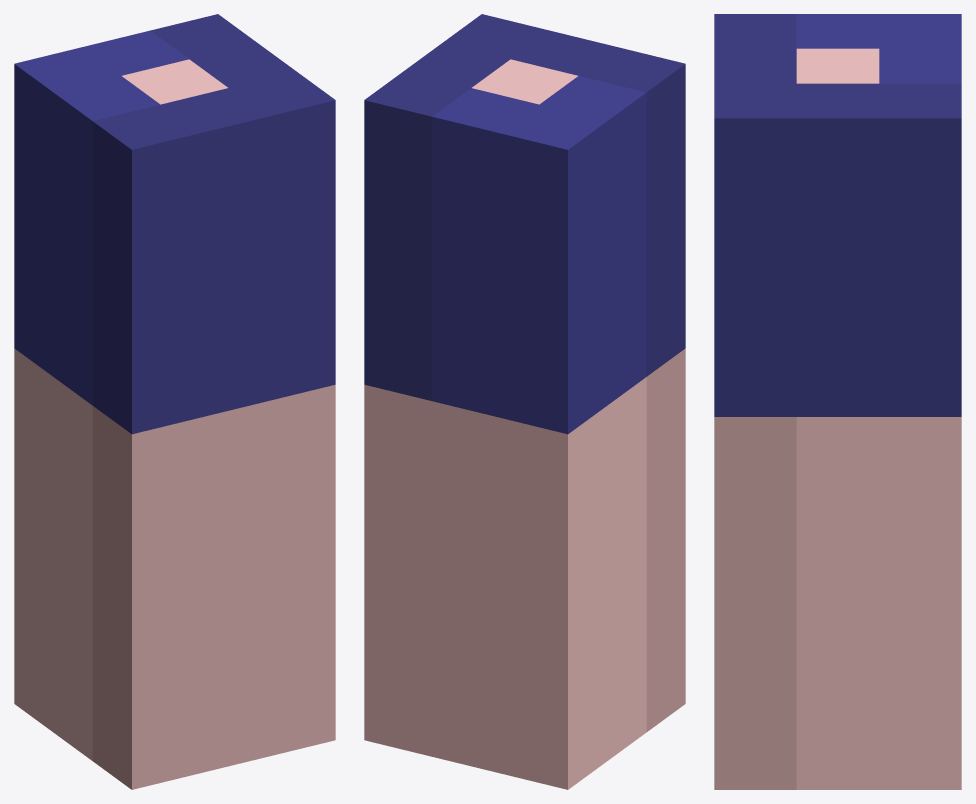
Rendered from pracGenny-9-Lleg1.obj.
The picture shows the model from 3 angles, left to right: view 1: azimuth 30°, elevation 25°; view 2: azimuth 150°, elevation 25°; view 3: azimuth 270°, elevation 25°; orthographic projection. The views are drawn at different scales.
Visible parts, largest first — view 1: Lleg1; view 2: Lleg1; view 3: Lleg1.
Boxes of the visible parts, x1=… form: Lleg1: x1=14, y1=14, x2=335, y2=789; Lleg1: x1=364, y1=14, x2=685, y2=789; Lleg1: x1=714, y1=14, x2=961, y2=789.
Bounding box in the file's own units: 0.3 × 0.9 × 0.3.
1 material, 1 textured.
